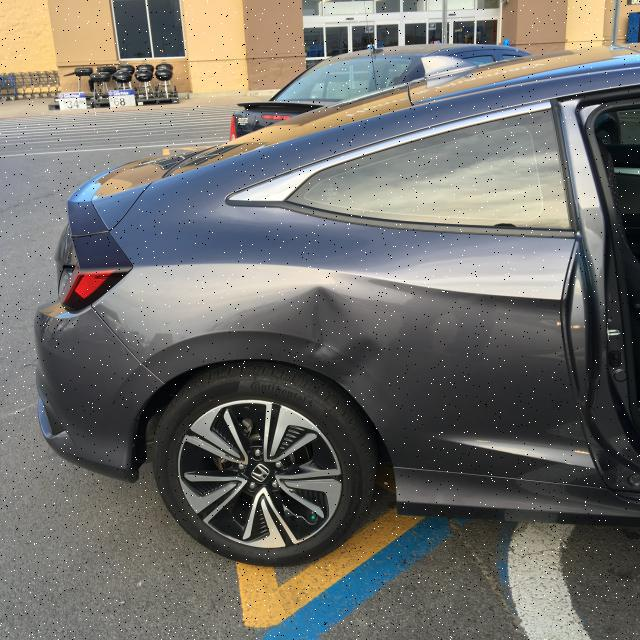medium-Bodypanel-Dent: (380, 47, 380, 48)
quaterpanel-dent: (155, 231, 562, 426)
